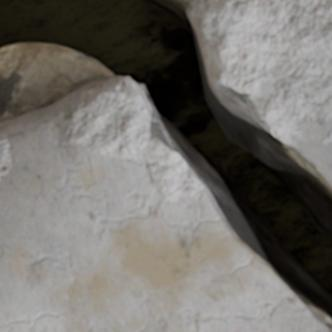broken_brick: (0, 77, 331, 331), (189, 0, 331, 181)
crack: (0, 0, 331, 330)
